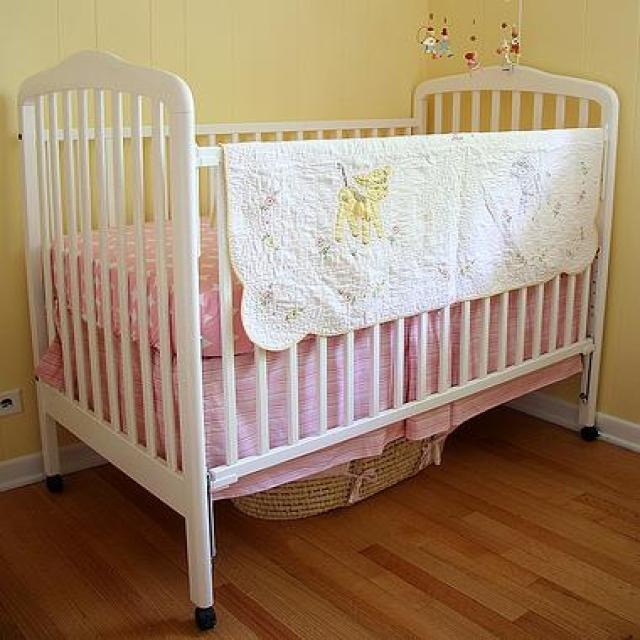bed: (15, 49, 620, 628)
